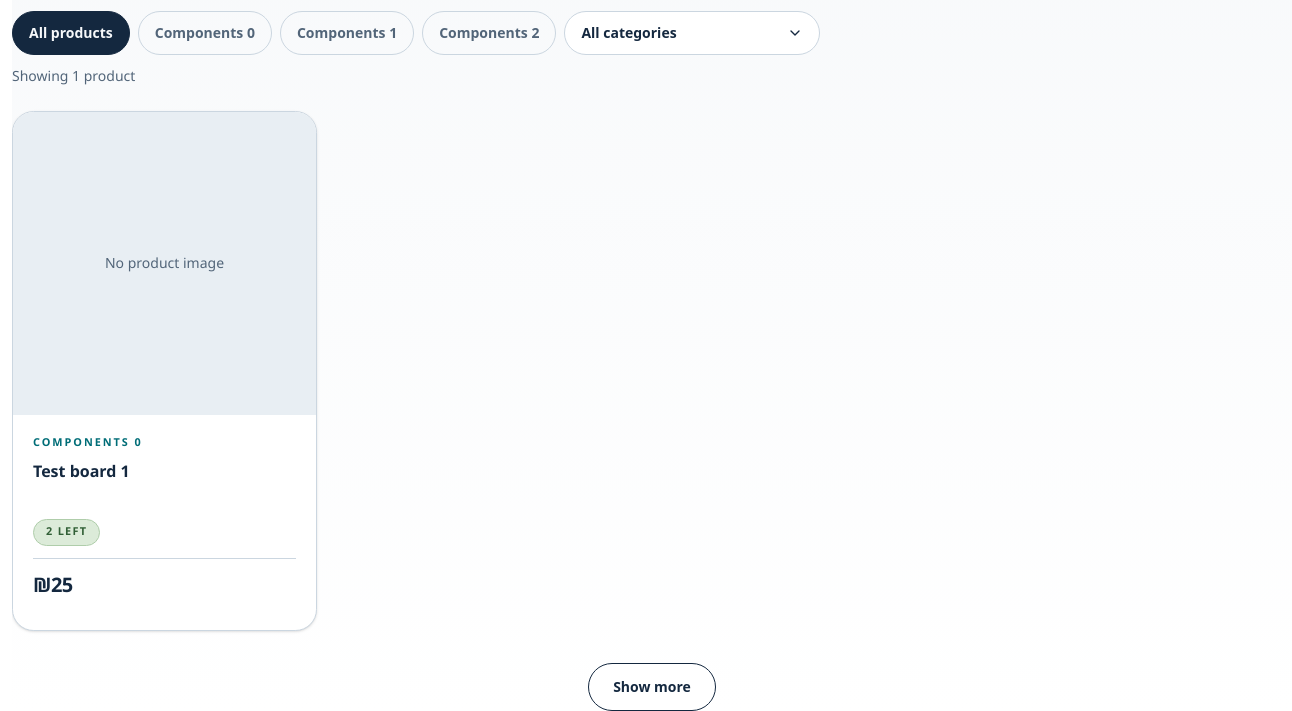
Test: catalog replacement recovery in en › keeps products and the same-page append retry after http failure
(page scrolled)
Expected: the link "Test board 1" is shown, [12,111,317,631]
Click the button "Show more". click: point(652, 687)
box: [588,663,716,710]
(page scrolled)
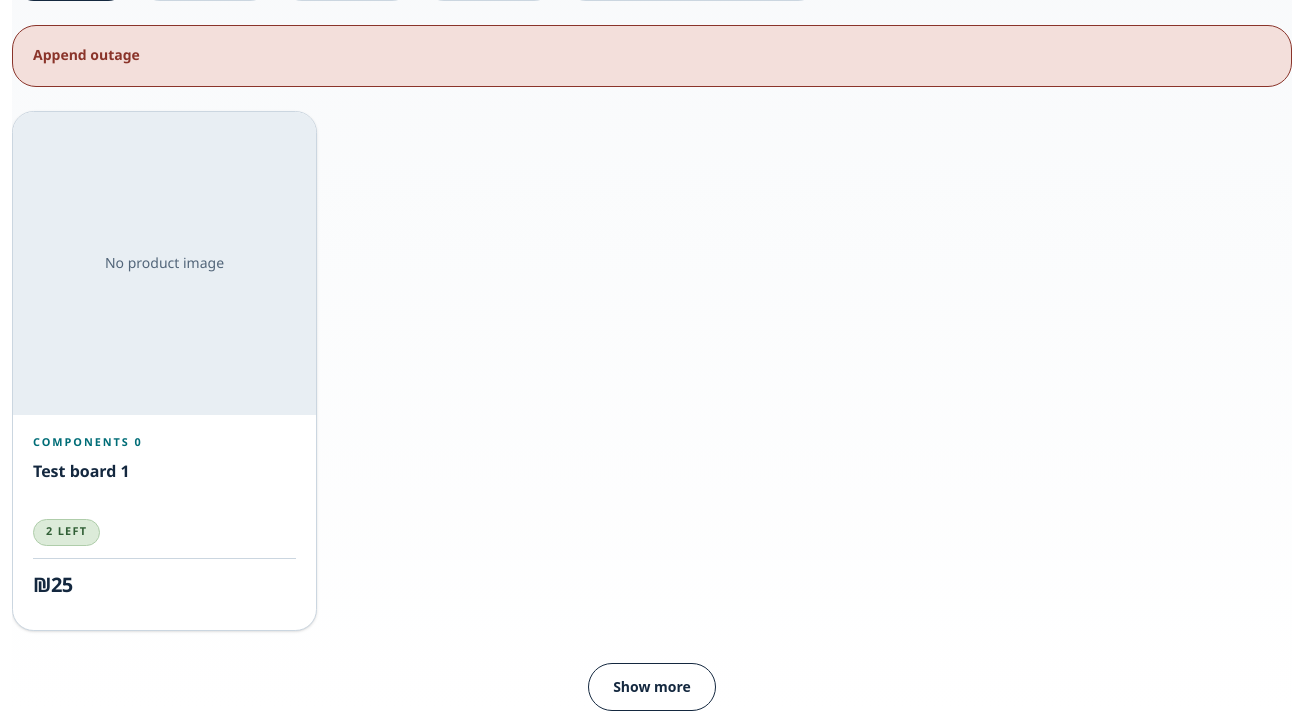
Expected: the link "Test board 1" is shown, [12,111,317,631]
Expected: the text "Append outage" is shown, [33,46,140,65]
Click the button "Show more". click: point(652, 687)
box: [588,663,716,710]
(page scrolled)
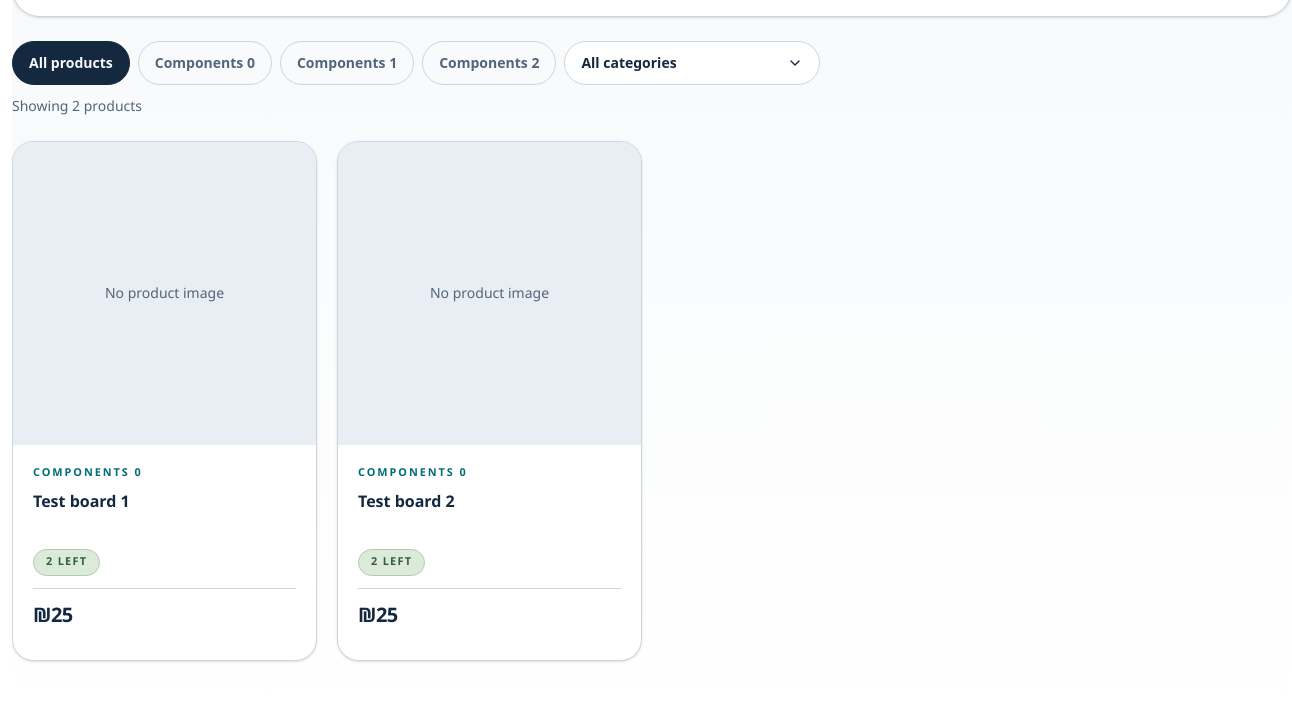
Expected: the link "Test board 1" is shown, [12,141,317,661]
Expected: the link "Test board 2" is shown, [337,141,642,661]
Expected: the message "Append outage" is gone
